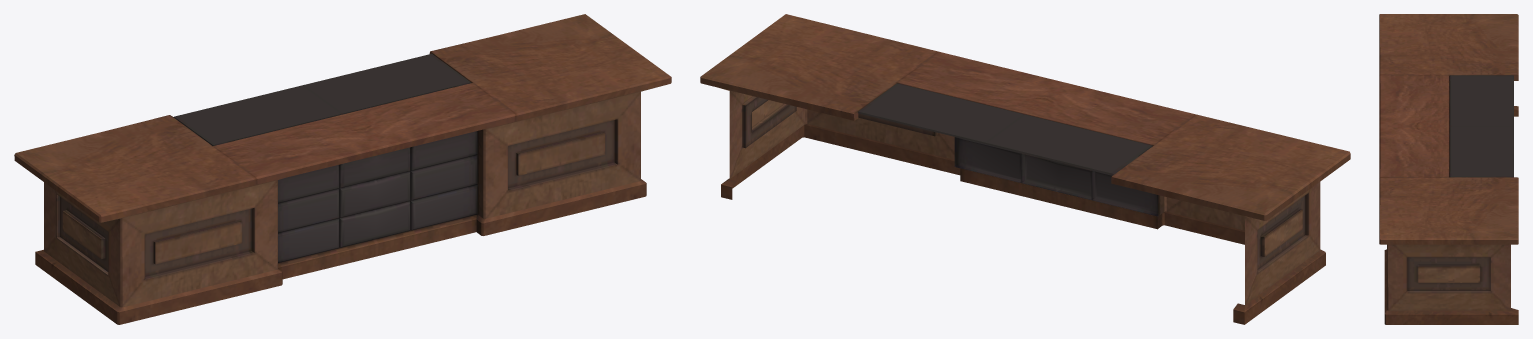
Rendered from Boss_Desk.obj.
3 views of the same model, side by side, from view 1: azimuth 30°, elevation 25°; view 2: azimuth 150°, elevation 25°; view 3: azimuth 270°, elevation 25° (orthographic). The views are drawn at different scales.
Parts seen in each view (by area): view 1: g0; view 2: g0; view 3: g0.
Part boxes in pixels (x1,y1,x2,y2): g0: [14, 14, 671, 324]; g0: [700, 14, 1350, 324]; g0: [1379, 14, 1518, 324].
Size of the model in its own units: 4.14 by 0.8104 by 1.08.
Materials: 1 (1 with a texture image).
